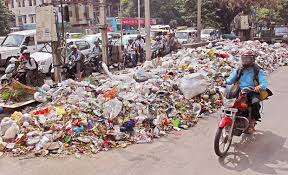garbage: (1, 89, 127, 152), (72, 75, 183, 132), (140, 63, 219, 107), (176, 50, 222, 91), (220, 41, 239, 63)
